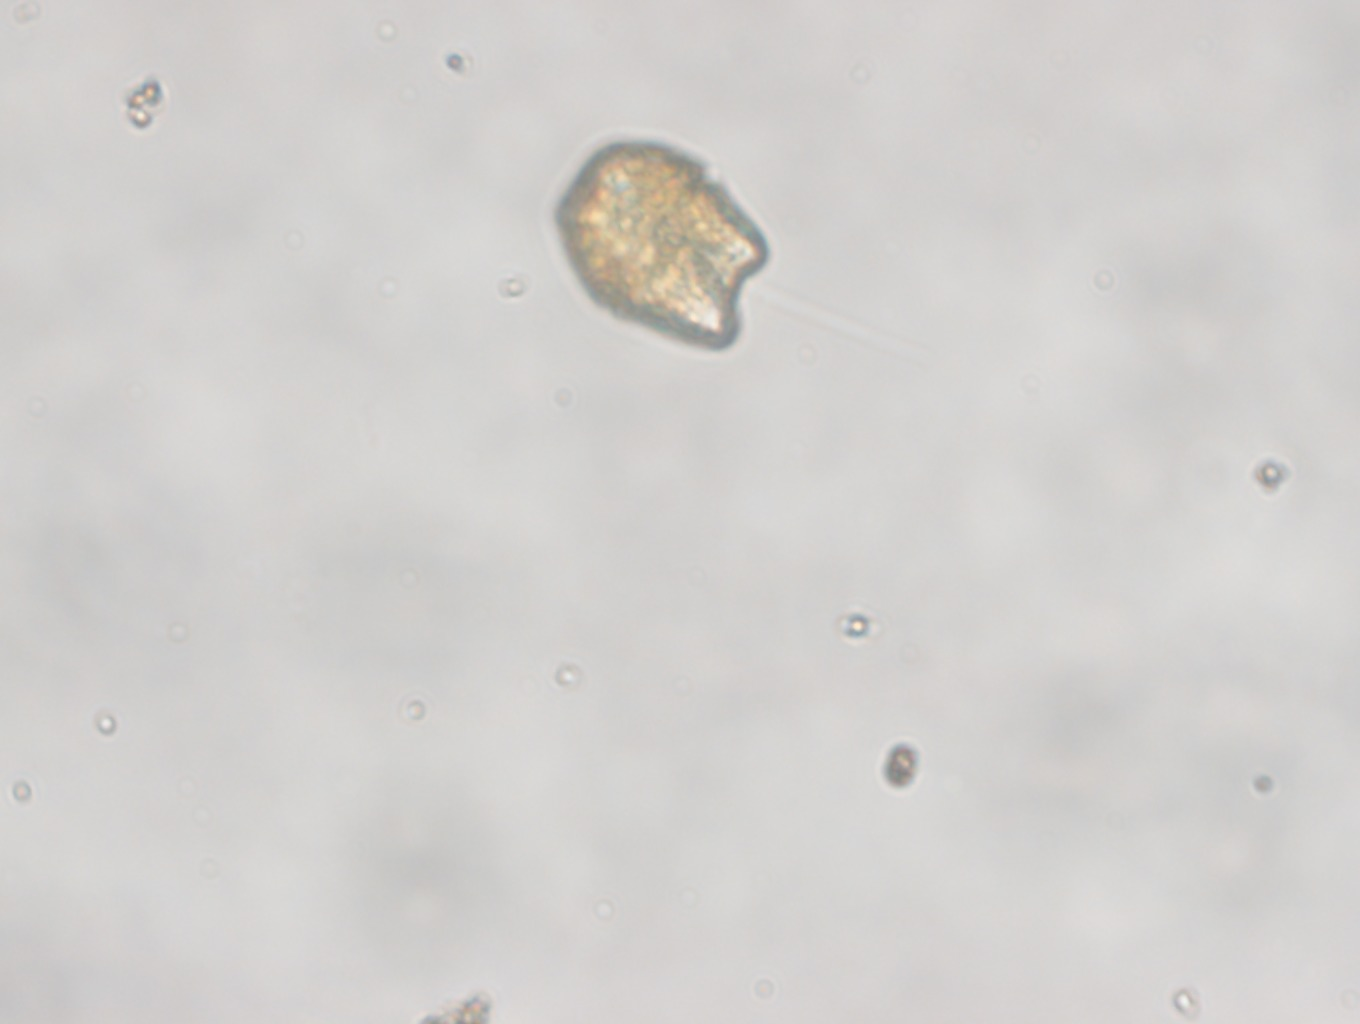protoperidinium: (549, 132, 779, 352)
